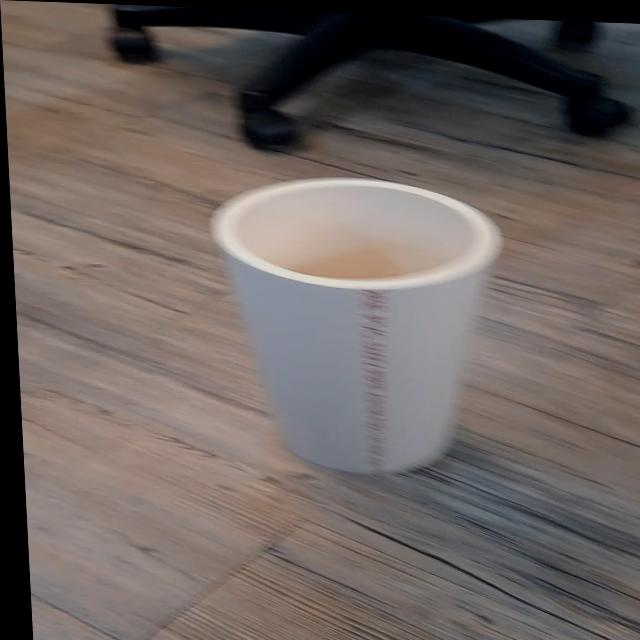CORAL: (192, 154, 521, 487)
